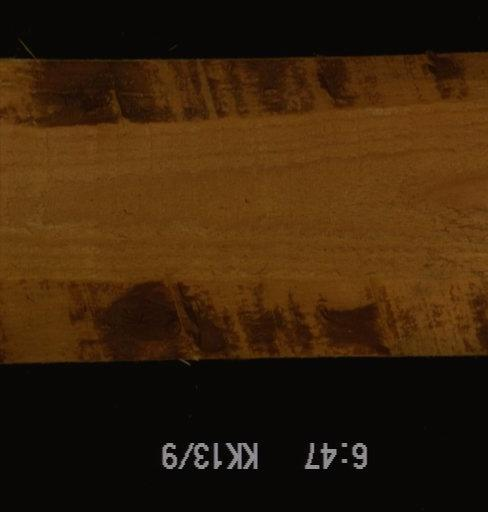wave: (1, 268, 486, 361), (0, 51, 486, 135)
